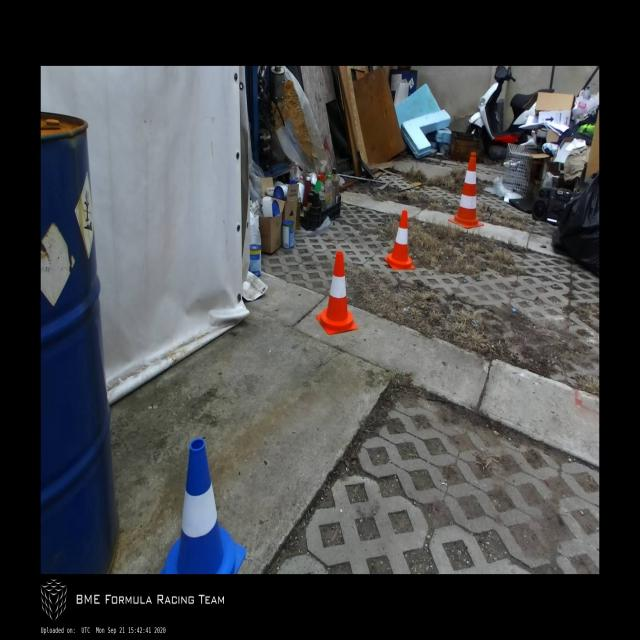blue_cone: (163, 439, 245, 574)
large_orange_cone: (448, 152, 484, 228)
orange_cone: (316, 250, 358, 335), (384, 210, 415, 270)
